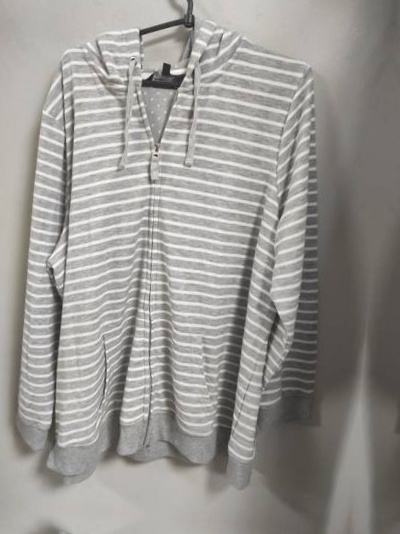Hoodie: (0, 0, 341, 487)
